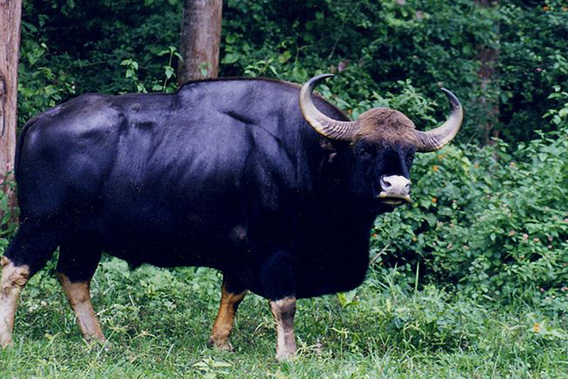bison: (1, 68, 470, 351)
